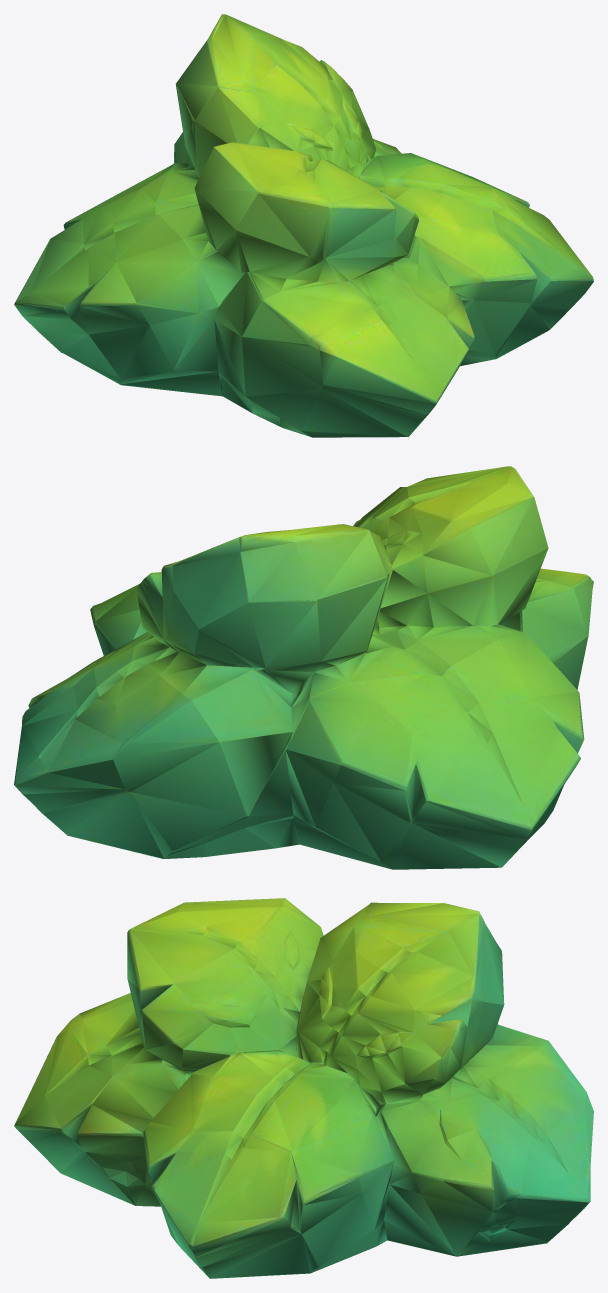
The model's file is prop.glb.
3 renders of one model, top to bottom at view 1: azimuth 30°, elevation 25°; view 2: azimuth 150°, elevation 25°; view 3: azimuth 270°, elevation 25°, orthographic. The views are drawn at different scales.
Visible parts, largest first — view 1: tripo_node_d45da2eb-039d-4aa6-aa02-98f01839d3fa; view 2: tripo_node_d45da2eb-039d-4aa6-aa02-98f01839d3fa; view 3: tripo_node_d45da2eb-039d-4aa6-aa02-98f01839d3fa.
Part boxes in pixels (x1,y1,x2,y2): tripo_node_d45da2eb-039d-4aa6-aa02-98f01839d3fa: [14, 14, 593, 437]; tripo_node_d45da2eb-039d-4aa6-aa02-98f01839d3fa: [14, 466, 593, 869]; tripo_node_d45da2eb-039d-4aa6-aa02-98f01839d3fa: [14, 898, 593, 1278].
Size of the model in its own units: 10.46 by 5.8 by 11.23.
1 material, 1 textured.
